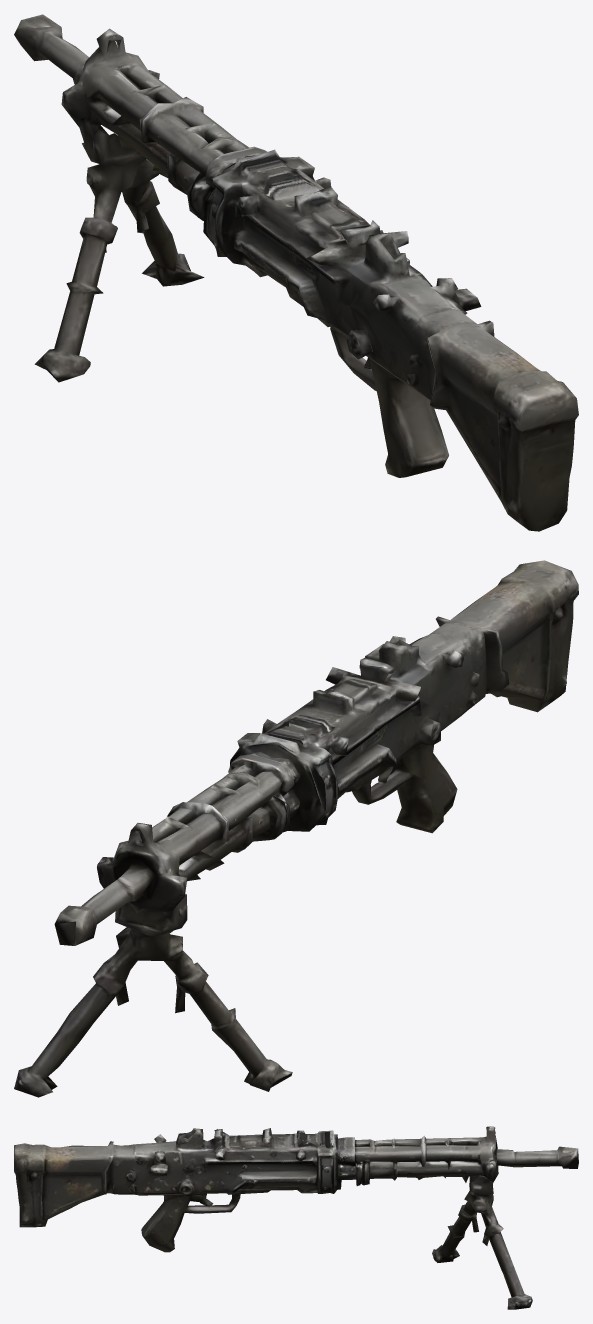
Rendered from w_kord.glb.
3 views of the same model, one above another, from view 1: azimuth 30°, elevation 25°; view 2: azimuth 150°, elevation 25°; view 3: azimuth 270°, elevation 25° (orthographic). The views are drawn at different scales.
Parts seen in each view (by area): view 1: tripo_node_c29294f6-e926-49a8-a7b2-cc9330cf2ff2; view 2: tripo_node_c29294f6-e926-49a8-a7b2-cc9330cf2ff2; view 3: tripo_node_c29294f6-e926-49a8-a7b2-cc9330cf2ff2.
Boxes of the visible parts, left/top/right/bottom form: tripo_node_c29294f6-e926-49a8-a7b2-cc9330cf2ff2: left=14, top=14, right=578, bottom=531; tripo_node_c29294f6-e926-49a8-a7b2-cc9330cf2ff2: left=14, top=560, right=578, bottom=1097; tripo_node_c29294f6-e926-49a8-a7b2-cc9330cf2ff2: left=14, top=1126, right=578, bottom=1309.
Size of the model in its own units: 0.2427 by 0.3094 by 1.
Materials: 1 (1 with a texture image).
